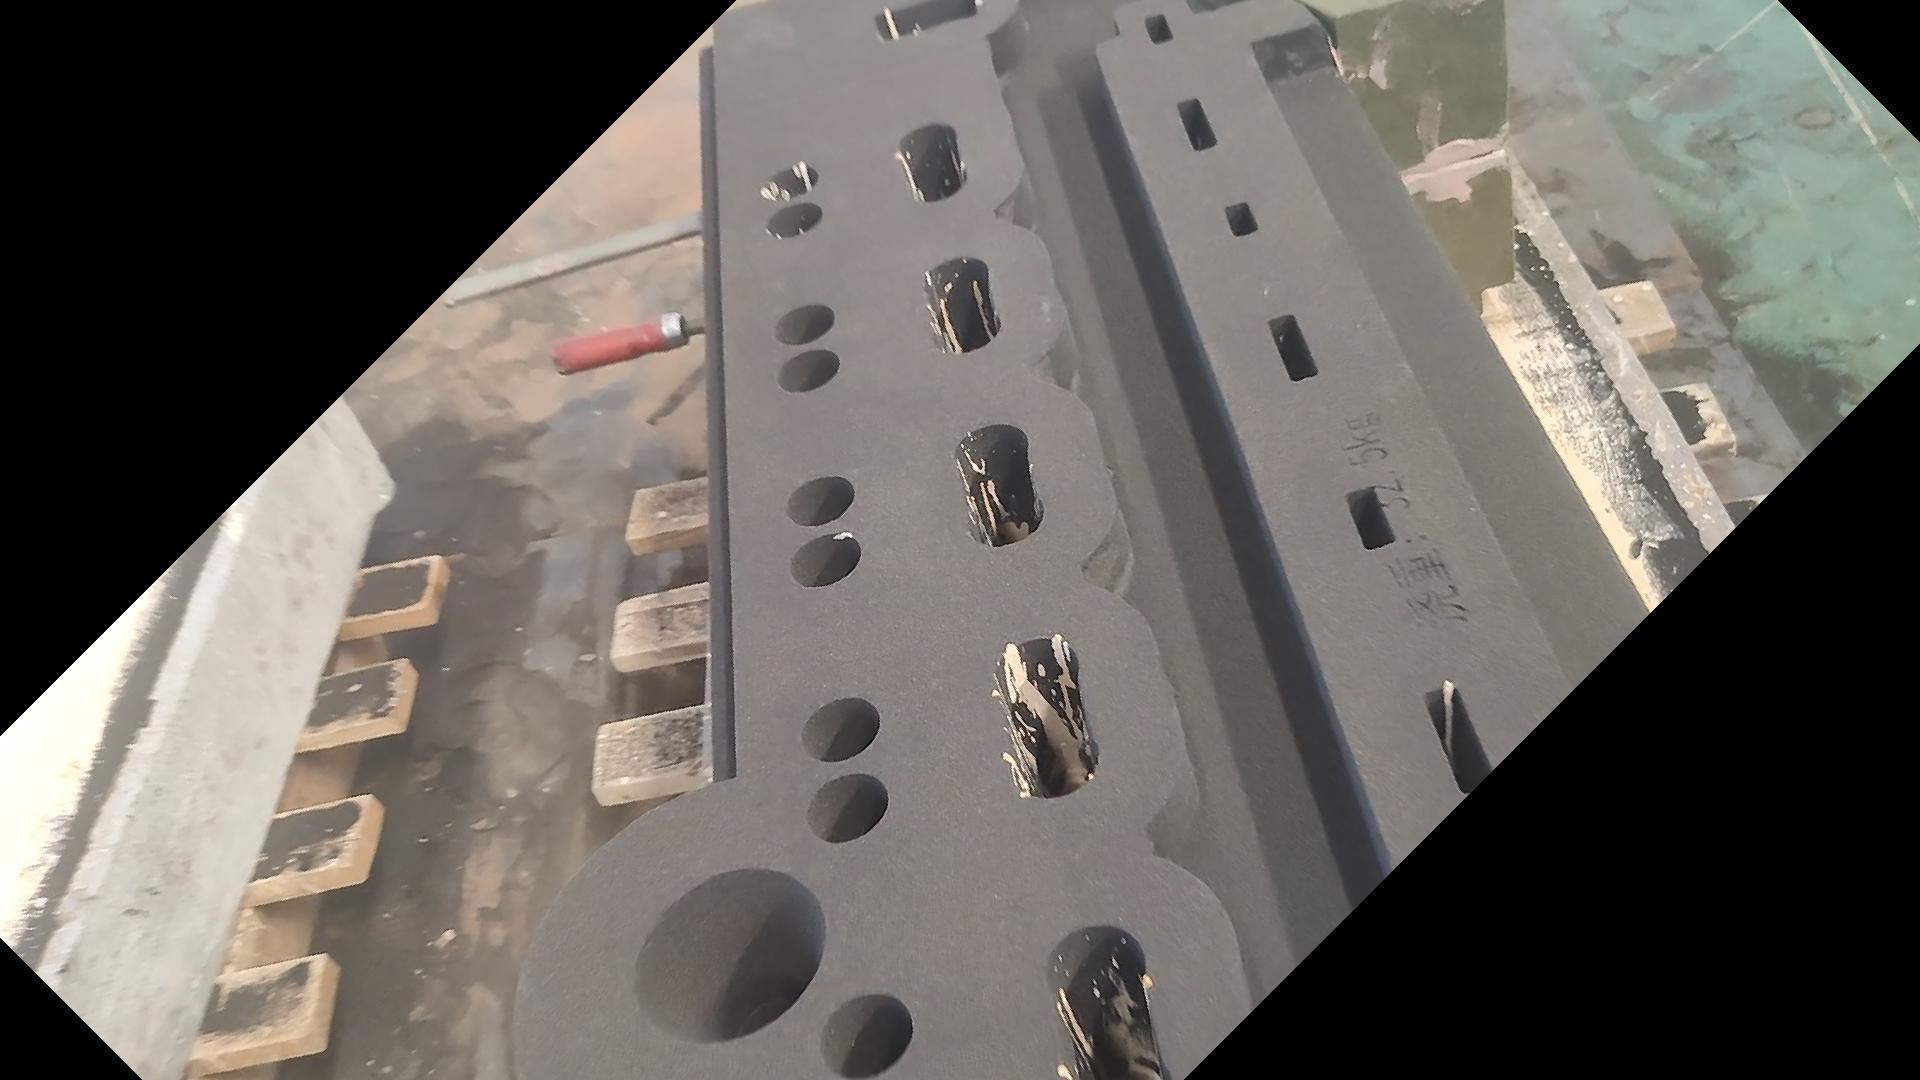pouring hole: (632, 865, 828, 1044)
